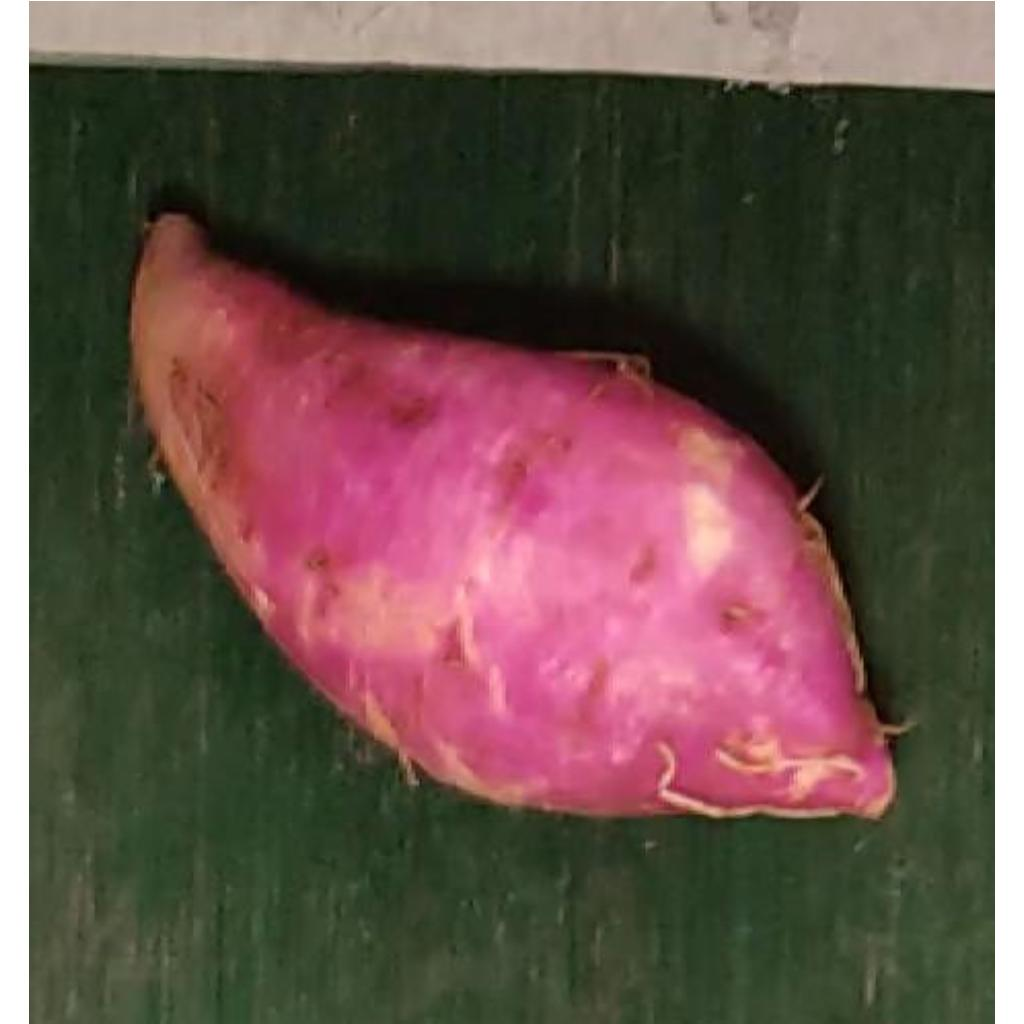Sweet Potato: (128, 210, 897, 825)
